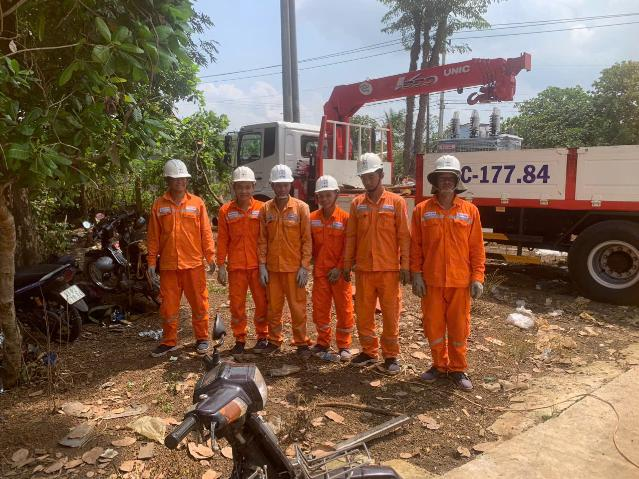gloves: (408, 264, 429, 297), (468, 274, 489, 303), (144, 260, 165, 281), (392, 265, 413, 286), (324, 265, 345, 285), (255, 263, 272, 287), (295, 265, 310, 290), (337, 265, 355, 283), (216, 267, 229, 288), (204, 257, 214, 274)
helmet: (155, 155, 192, 182), (310, 169, 339, 197), (352, 150, 387, 173), (266, 159, 295, 185), (431, 152, 466, 172), (228, 166, 258, 184)
shoes: (445, 364, 480, 395), (349, 345, 378, 369), (416, 366, 450, 386), (379, 351, 401, 378), (149, 340, 180, 359), (261, 334, 282, 360), (332, 340, 353, 362), (308, 339, 330, 359), (195, 335, 215, 355), (291, 341, 313, 359), (229, 342, 250, 359), (252, 331, 267, 354)
